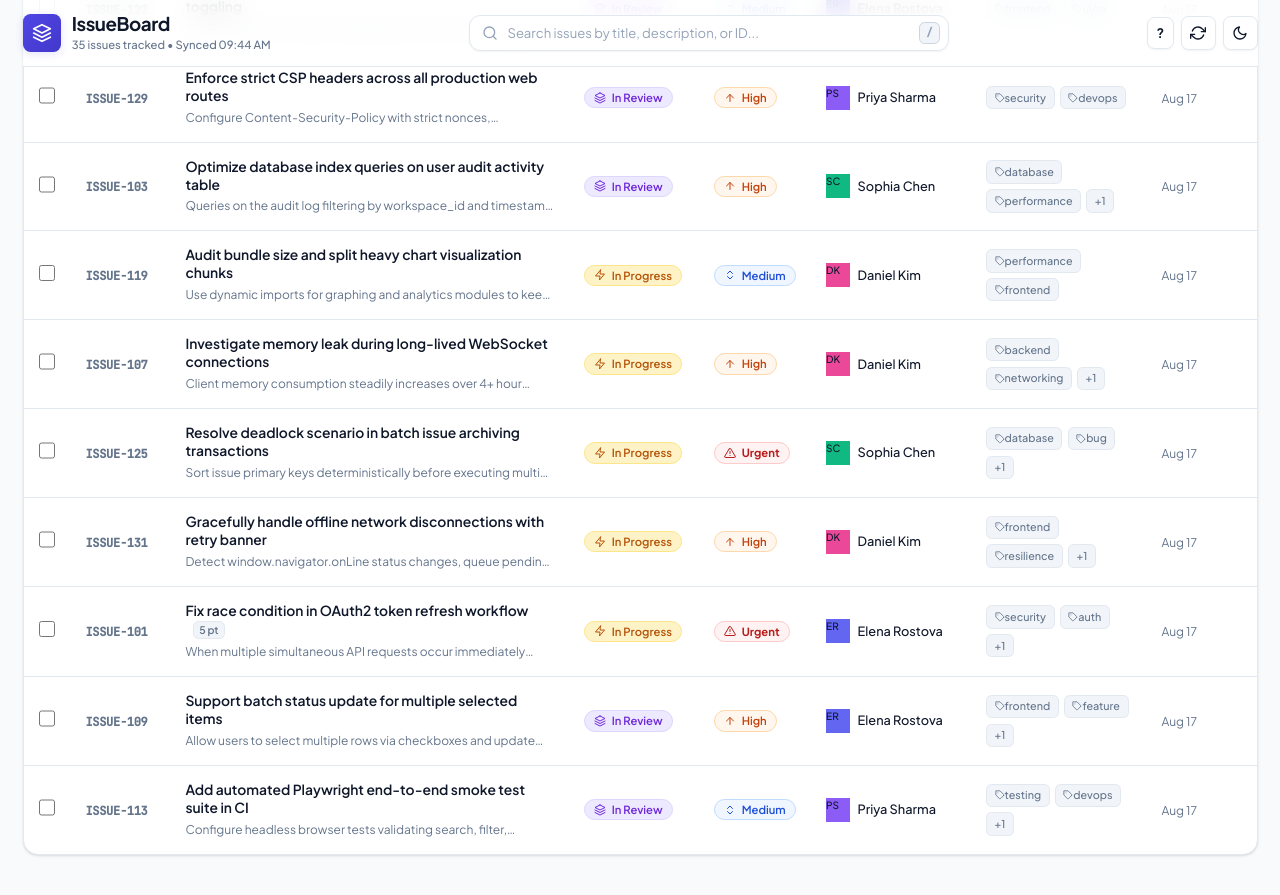
Test: Selection and Bulk Actions › performs bulk status change on selected issues
(page scrolled)
Check: the text "Fix race condition in OAuth2 token refresh workflow" is shown, box [185,602,528,619]
Click the checkbox named "Select issue ISSUE-101" at (47, 629), box [38,620,55,637]
(page scrolled)
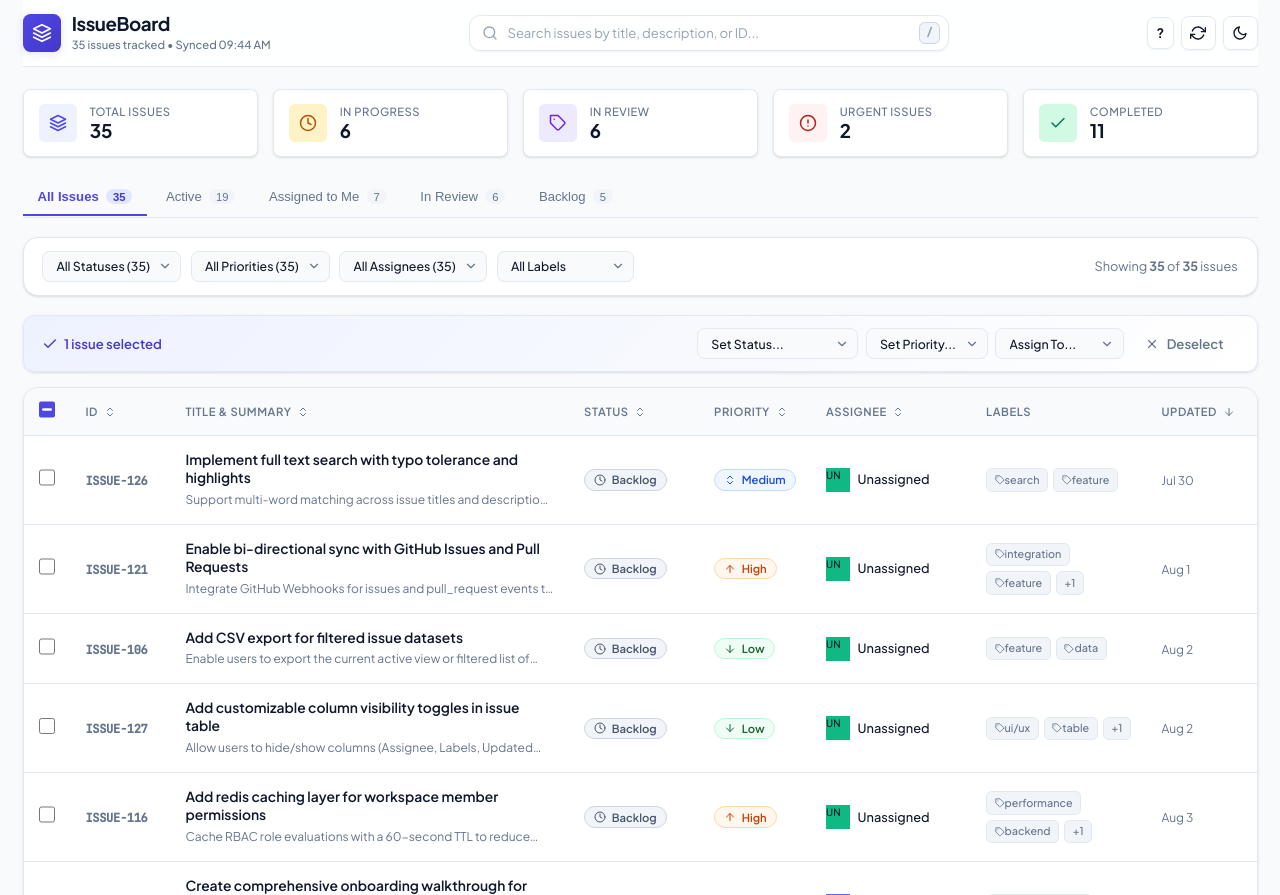
Select "Mark as Done" in the dropdown named "Change status for selected issues" at (778, 344), box [697,328,858,359]
(page scrolled)
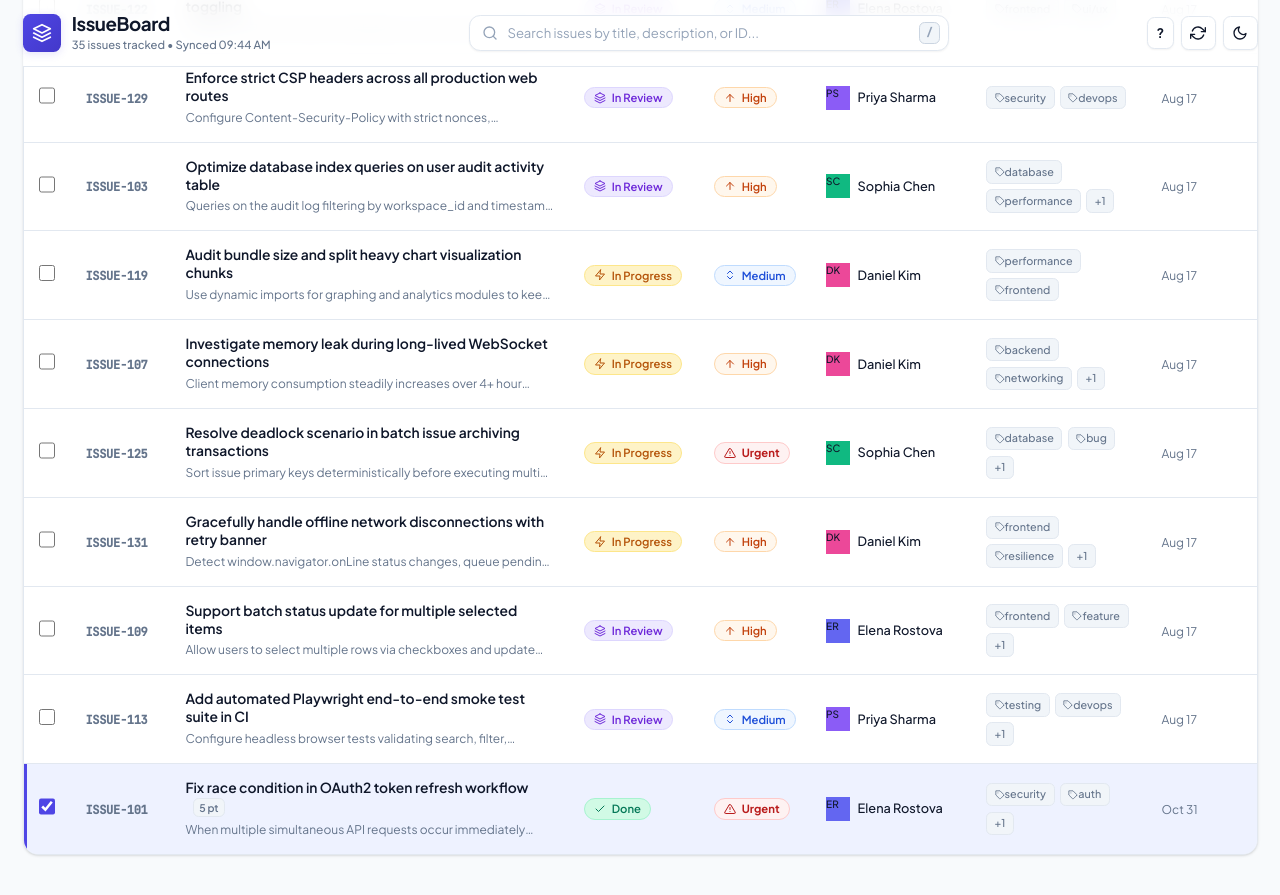
Check: the row named "Issue ISSUE-101: Fix race condition in OAuth2 token refresh" is shown, box [24,764,1256,854]
